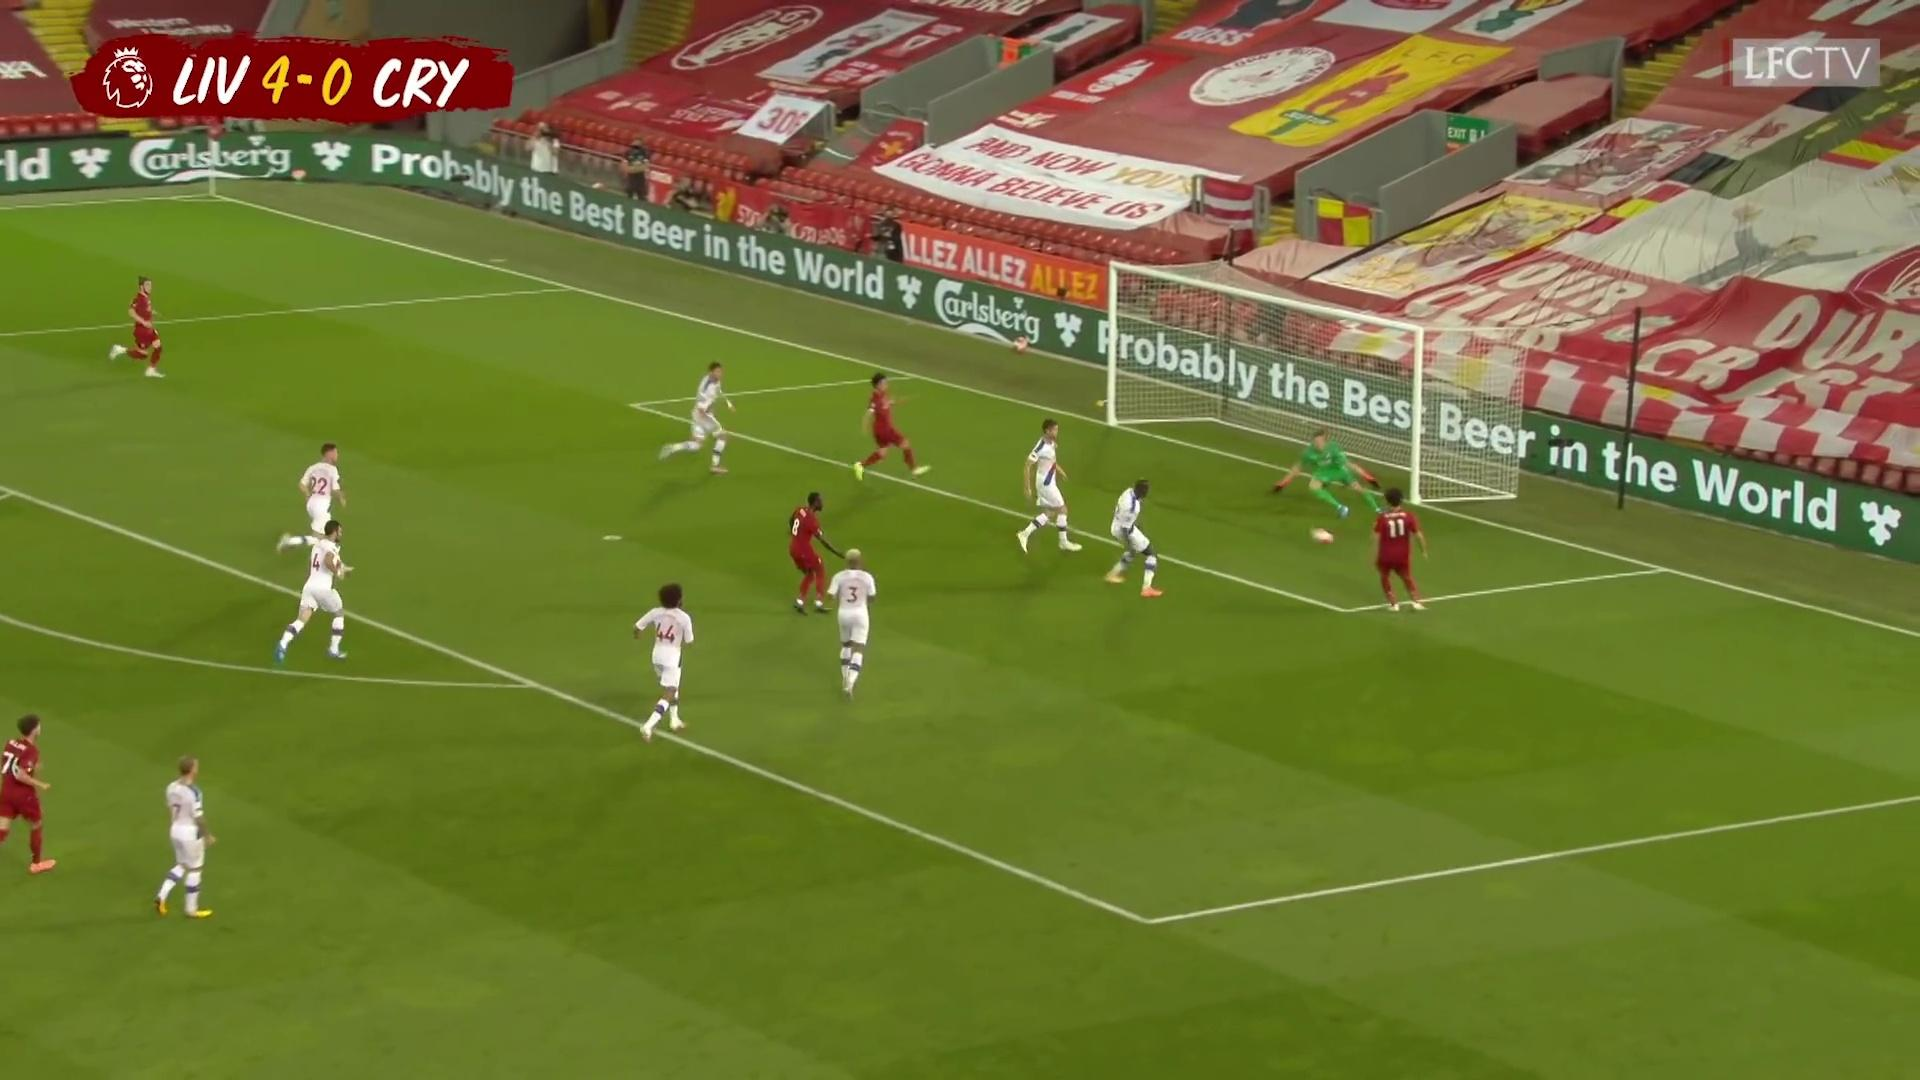ball: (1309, 524, 1337, 549), (1011, 334, 1030, 357), (290, 167, 308, 185)
goalkeeper: (1267, 428, 1381, 526)
player: (271, 519, 354, 669), (634, 581, 705, 748), (151, 752, 220, 921), (276, 437, 354, 577), (0, 705, 61, 878), (1018, 418, 1093, 558), (658, 359, 736, 479), (848, 369, 927, 485), (828, 547, 882, 706), (1368, 485, 1432, 618), (1104, 475, 1170, 603), (783, 490, 840, 621), (111, 272, 168, 382)
